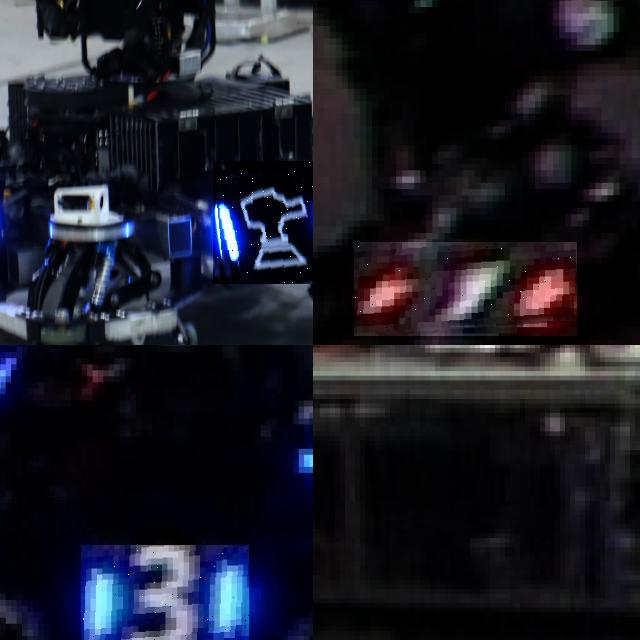B3: (81, 545, 249, 640)
Bs: (212, 161, 313, 284)
R1: (354, 242, 577, 336)
